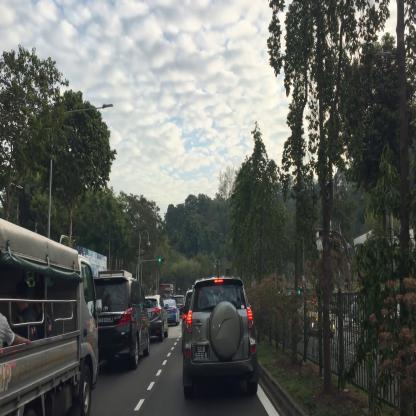green_traffic_light: (159, 258, 164, 262)
